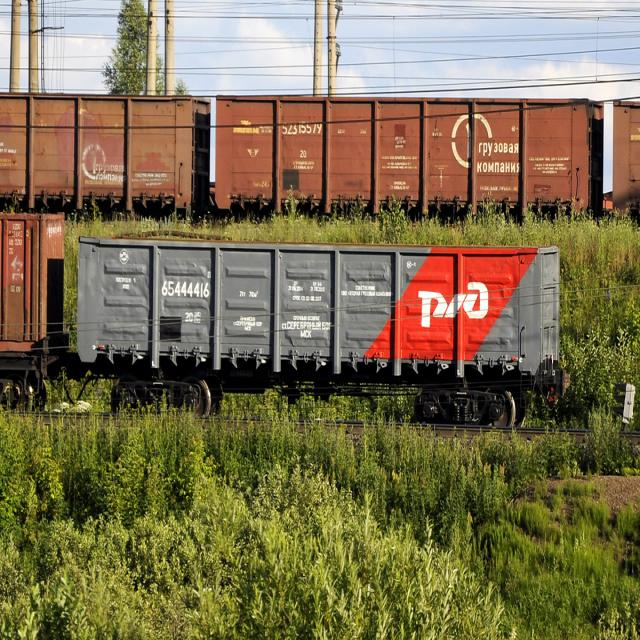container: (0, 195, 71, 350)
gondola: (72, 220, 570, 427), (211, 77, 610, 230), (0, 82, 215, 232)
